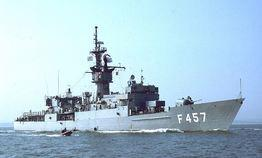warship: (10, 23, 247, 133)
